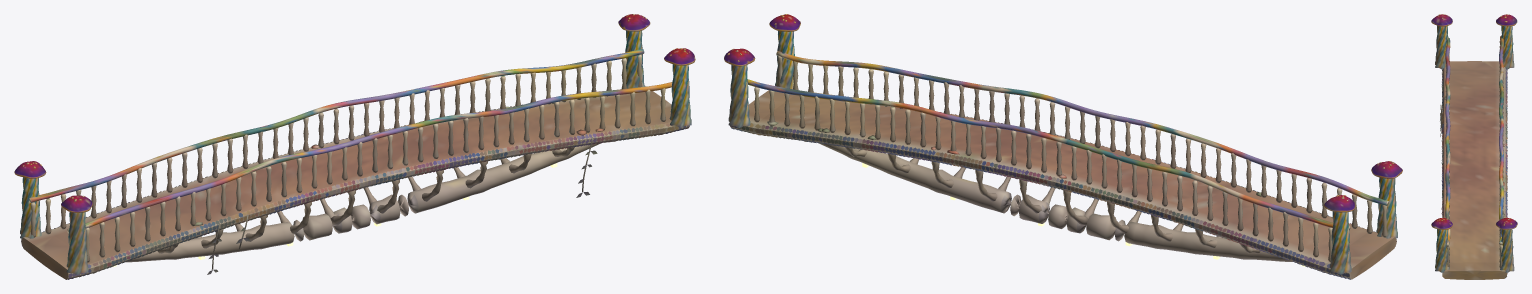
The model's file is kopru_gecit_20.glb.
The picture shows the model from 3 angles, left to right: view 1: azimuth 30°, elevation 25°; view 2: azimuth 150°, elevation 25°; view 3: azimuth 270°, elevation 25°; orthographic projection. The views are drawn at different scales.
Parts seen in each view (by area): view 1: kopru_gecit_20_LOD0; view 2: kopru_gecit_20_LOD0; view 3: kopru_gecit_20_LOD0.
Boxes of the visible parts, x1,y1,x2,y2 form: kopru_gecit_20_LOD0: (14,14,695,279); kopru_gecit_20_LOD0: (724,14,1402,279); kopru_gecit_20_LOD0: (1431,14,1517,279).
Size of what is drawn, in the model's own units: 20.32 by 3.83 by 3.49.
